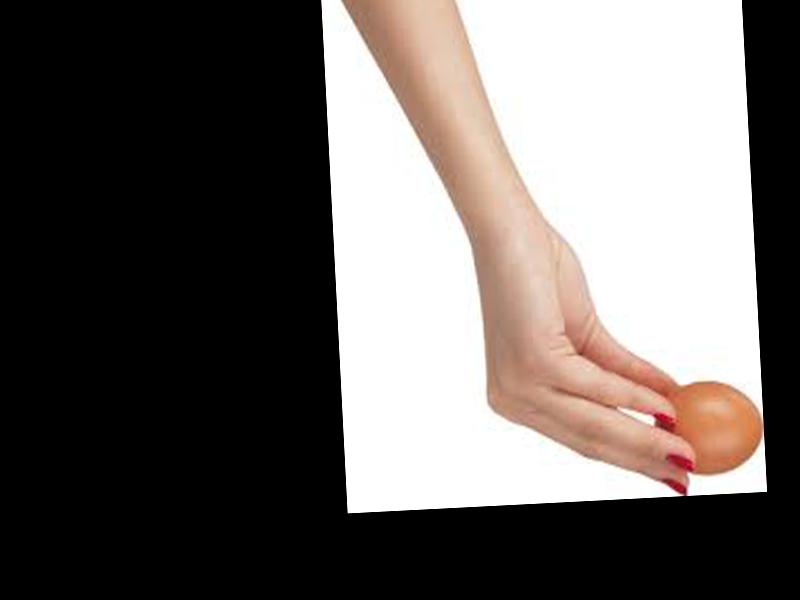Eggs: (656, 378, 763, 478)
